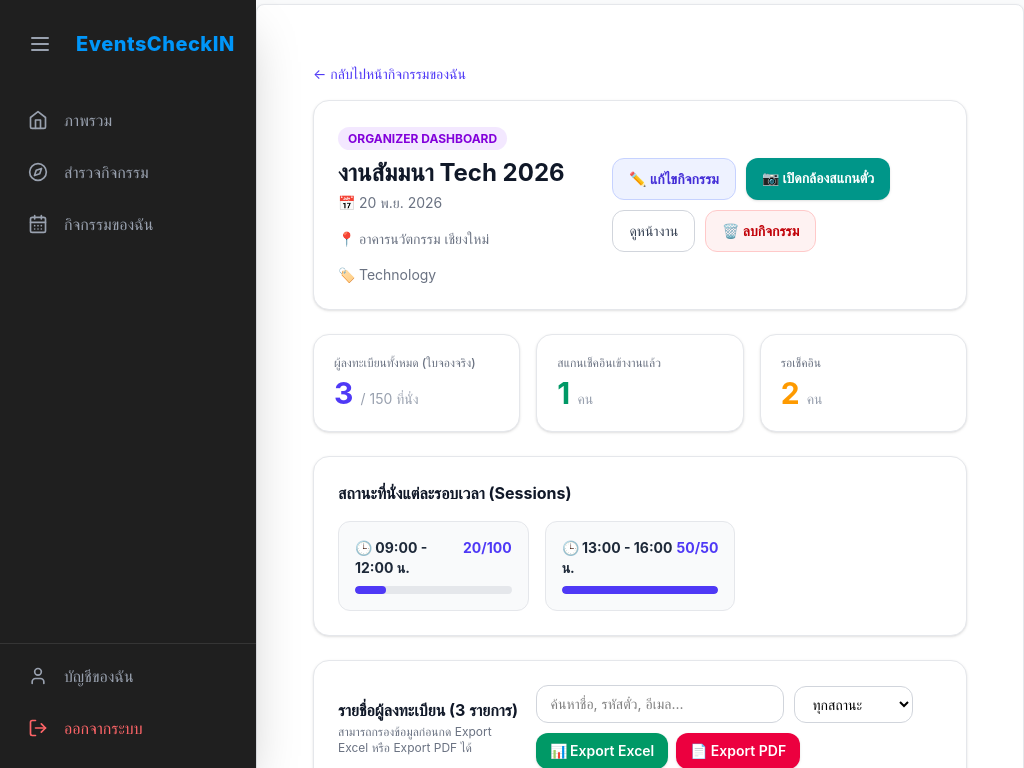
Test: Organizer dashboard (delete event) › กดลบ → ขึ้นกล่องยืนยัน และกดยกเลิกแล้วไม่เรียก API
Click the button "🗑️ ลบกิจกรรม".
click(761, 231)  # box [705, 210, 816, 252]
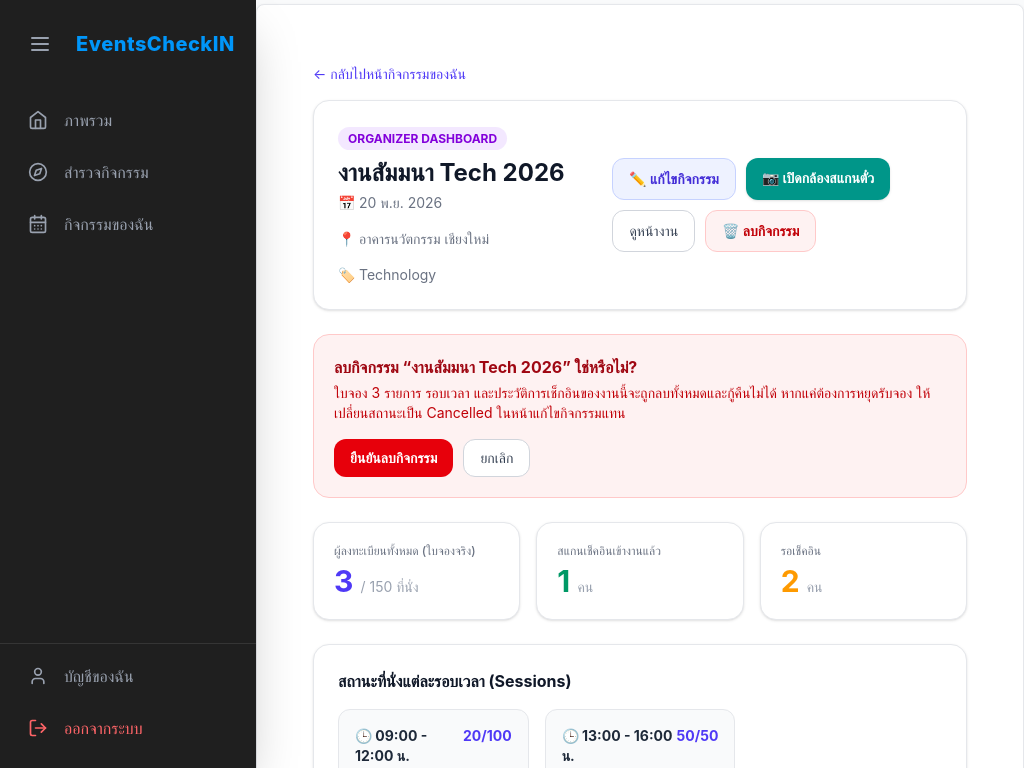
Expected: the text "ลบกิจกรรม “งานสัมมนา Tech 2026” ใช่หรือไม่?" is shown, [334, 357, 637, 377]
Expected: the text "กู้คืนไม่ได้" is shown, [380, 384, 777, 401]
Click the button "ยกเลิก".
click(497, 458)  # box [463, 439, 530, 477]
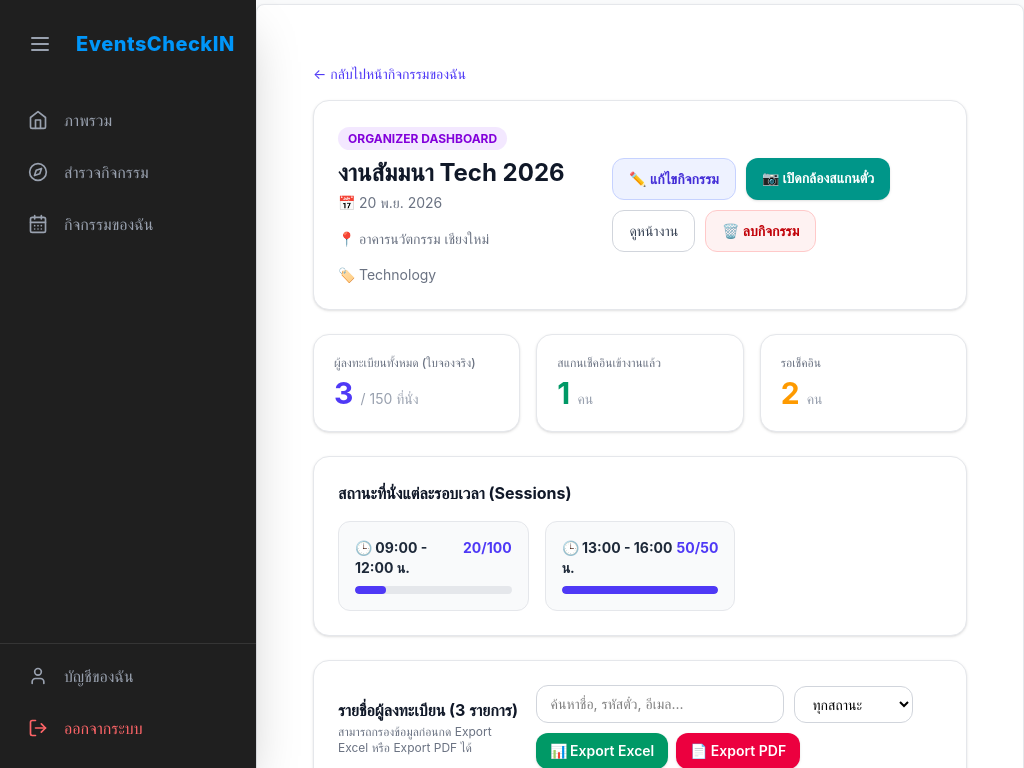
Expected: the dialog is gone
